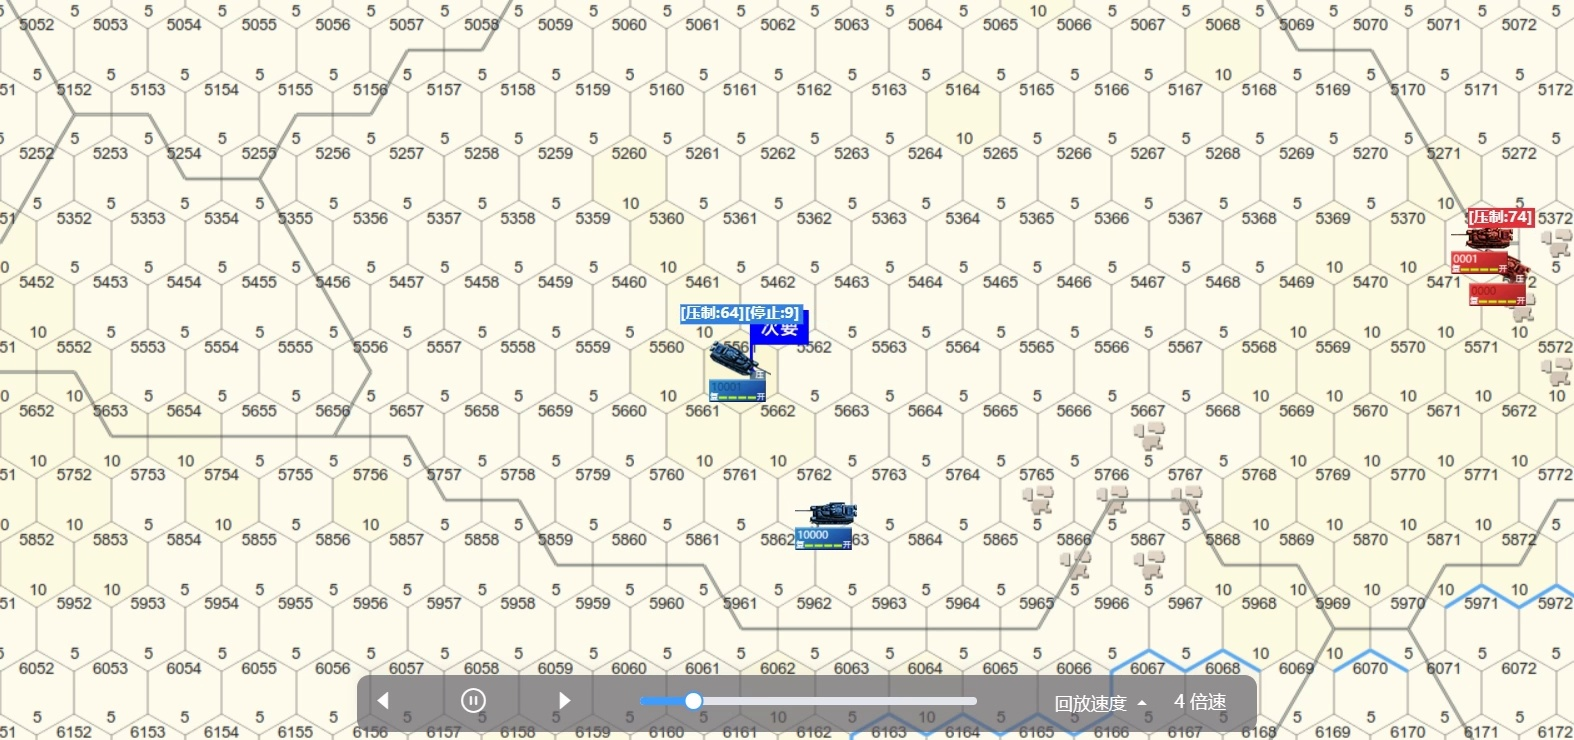blue_tank: (713, 344, 759, 390), (808, 499, 847, 544)
red_tank: (1461, 226, 1515, 263), (1487, 268, 1526, 307)
